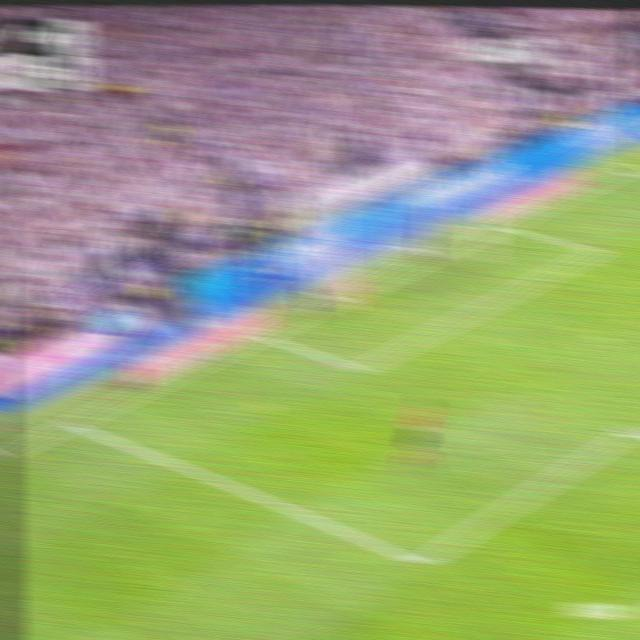bigarea_bottom_inner: (408, 546, 435, 581)
bigarea_bottom_outter: (60, 412, 83, 433)
bottom_arc_area_intersection: (615, 417, 640, 446)
smallarea_bottom_inner: (349, 355, 372, 382)
smallarea_top_inner: (584, 237, 607, 262)
smallarea_top_outter: (492, 218, 513, 234)
